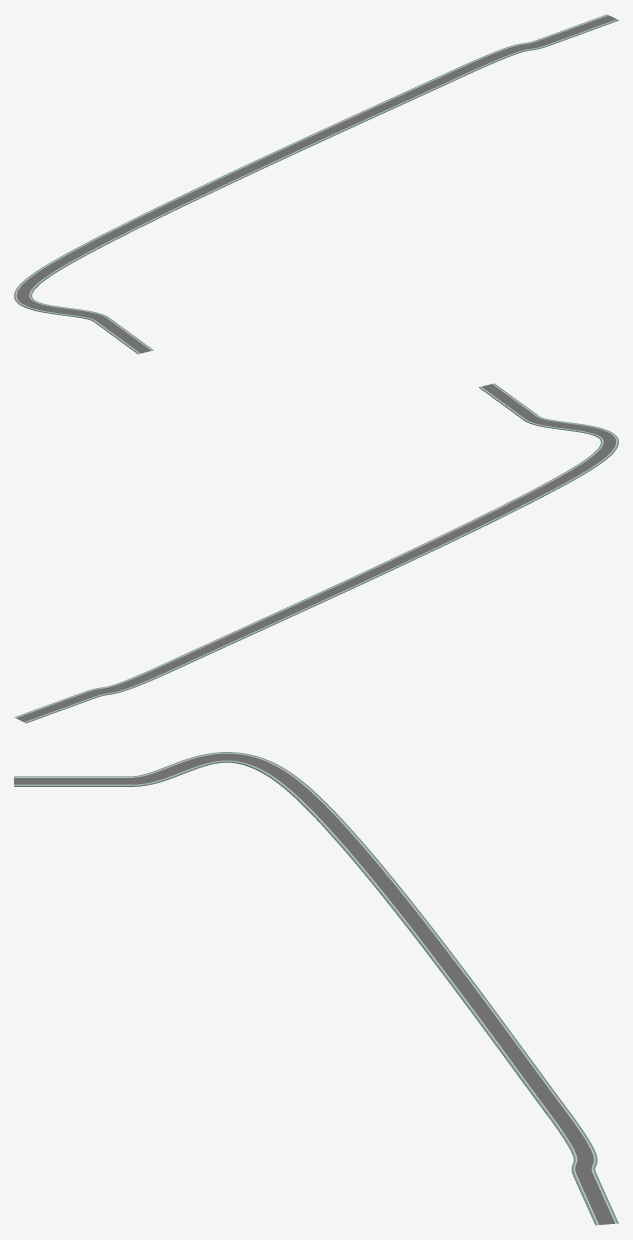
Rendered from road_roam_to_stage_harbour_lights.glb.
3 renders of one model, top to bottom at view 1: azimuth 30°, elevation 25°; view 2: azimuth 210°, elevation 25°; view 3: azimuth 270°, elevation 25°, orthographic. The views are drawn at different scales.
Visible parts, largest first — view 1: road; view 2: road; view 3: road.
Boxes of the visible parts, x1,y1,x2,y2 form: road: (14,14,618,354); road: (14,383,618,723); road: (14,752,618,1225).
Size of the model in its own units: 566 by 0.32 by 306.
